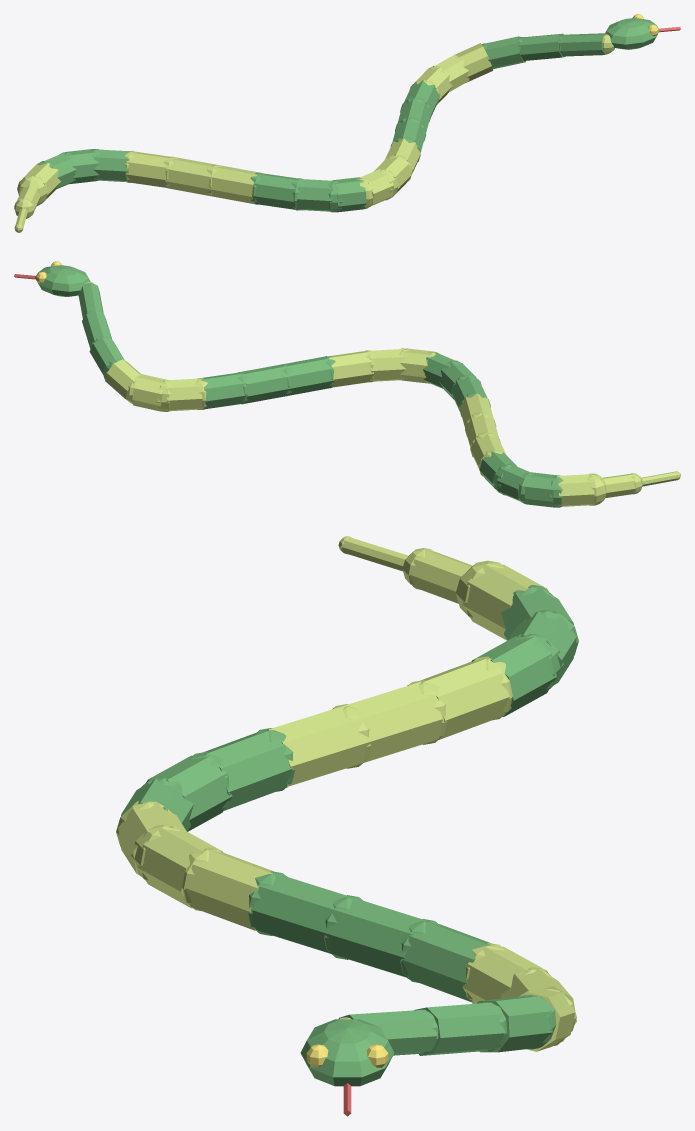
File: grotto_snake_slither.fbx
3 views of the same model, one above another, from view 1: azimuth 30°, elevation 25°; view 2: azimuth 150°, elevation 25°; view 3: azimuth 270°, elevation 25° (orthographic). The views are drawn at different scales.
Parts seen in each view (by area): view 1: Snake_Seg_09, Snake_Seg_08, Snake_Head, Snake_Seg_10, Snake_Seg_07, Snake_Seg_11, Snake_Seg_24, Snake_Seg_06, Snake_Seg_23, Snake_Seg_22, Snake_Seg_12, Snake_Seg_21 (+12 smaller); view 2: Snake_Seg_17, Snake_Seg_16, Snake_Seg_18, Snake_Seg_15, Snake_Head, Snake_Seg_03, Snake_Seg_19, Snake_Seg_14, Snake_Seg_20, Snake_Seg_04, Snake_Seg_21, Snake_Seg_13 (+13 smaller); view 3: Snake_Seg_08, Snake_Seg_16, Snake_Seg_09, Snake_Seg_17, Snake_Head, Snake_Seg_15, Snake_Seg_07, Snake_Seg_10, Snake_Seg_18, Snake_Seg_23, Snake_Seg_14, Snake_Seg_06 (+13 smaller).
Boxes of the visible parts, bbox=[...] form: Snake_Seg_09: bbox=[208, 165, 258, 204]; Snake_Seg_08: bbox=[165, 157, 215, 196]; Snake_Head: bbox=[605, 18, 659, 49]; Snake_Seg_10: bbox=[253, 173, 298, 209]; Snake_Seg_07: bbox=[125, 151, 170, 187]; Snake_Seg_11: bbox=[297, 179, 334, 211]; Snake_Seg_24: bbox=[558, 33, 608, 56]; Snake_Seg_06: bbox=[93, 149, 130, 181]; Snake_Seg_23: bbox=[518, 33, 565, 60]; Snake_Seg_22: bbox=[483, 36, 525, 69]; Snake_Seg_12: bbox=[332, 177, 366, 212]; Snake_Seg_21: bbox=[455, 43, 492, 82]; Snake_Seg_17: bbox=[241, 364, 290, 403]; Snake_Seg_16: bbox=[284, 356, 334, 395]; Snake_Seg_18: bbox=[201, 373, 246, 409]; Snake_Seg_15: bbox=[329, 351, 373, 387]; Snake_Head: bbox=[35, 265, 90, 296]; Snake_Seg_03: bbox=[557, 474, 594, 506]; Snake_Seg_19: bbox=[165, 378, 202, 411]; Snake_Seg_14: bbox=[369, 349, 405, 381]; Snake_Seg_20: bbox=[132, 374, 167, 411]; Snake_Seg_04: bbox=[524, 472, 558, 507]; Snake_Seg_21: bbox=[105, 359, 141, 399]; Snake_Seg_13: bbox=[400, 348, 433, 383]; Snake_Seg_08: bbox=[345, 681, 442, 762]; Snake_Seg_16: bbox=[252, 873, 349, 953]; Snake_Seg_09: bbox=[267, 705, 366, 786]; Snake_Seg_17: bbox=[328, 897, 427, 977]; Snake_Head: bbox=[300, 1019, 394, 1086]; Snake_Seg_15: bbox=[185, 849, 287, 931]; Snake_Seg_07: bbox=[407, 658, 509, 739]; Snake_Seg_10: bbox=[204, 730, 292, 811]; Snake_Seg_18: bbox=[402, 921, 490, 1002]; Snake_Seg_23: bbox=[414, 1002, 504, 1055]; Snake_Seg_14: bbox=[138, 827, 223, 908]; Snake_Seg_06: bbox=[471, 636, 556, 716].
Size of the model in its own units: 849 by 88 by 256.
